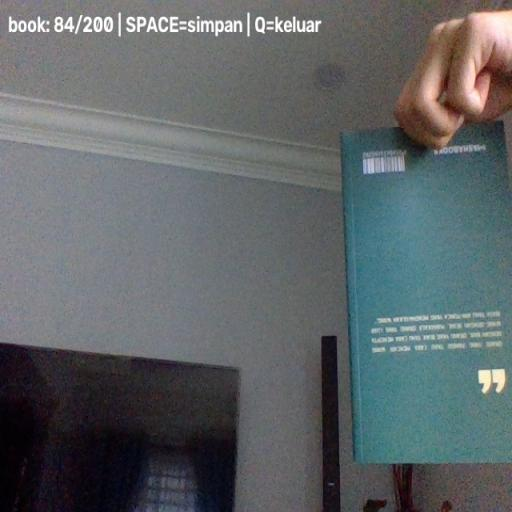Book: (339, 119, 512, 464)
